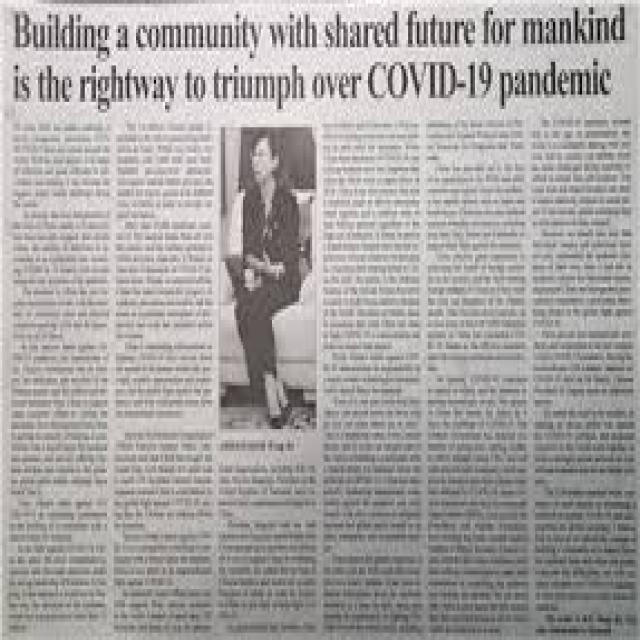Newspaper: (0, 2, 640, 640)
